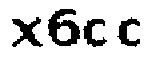6: (46, 7, 80, 49)
c: (117, 17, 144, 52), (84, 18, 110, 49)
x: (4, 15, 44, 50)
